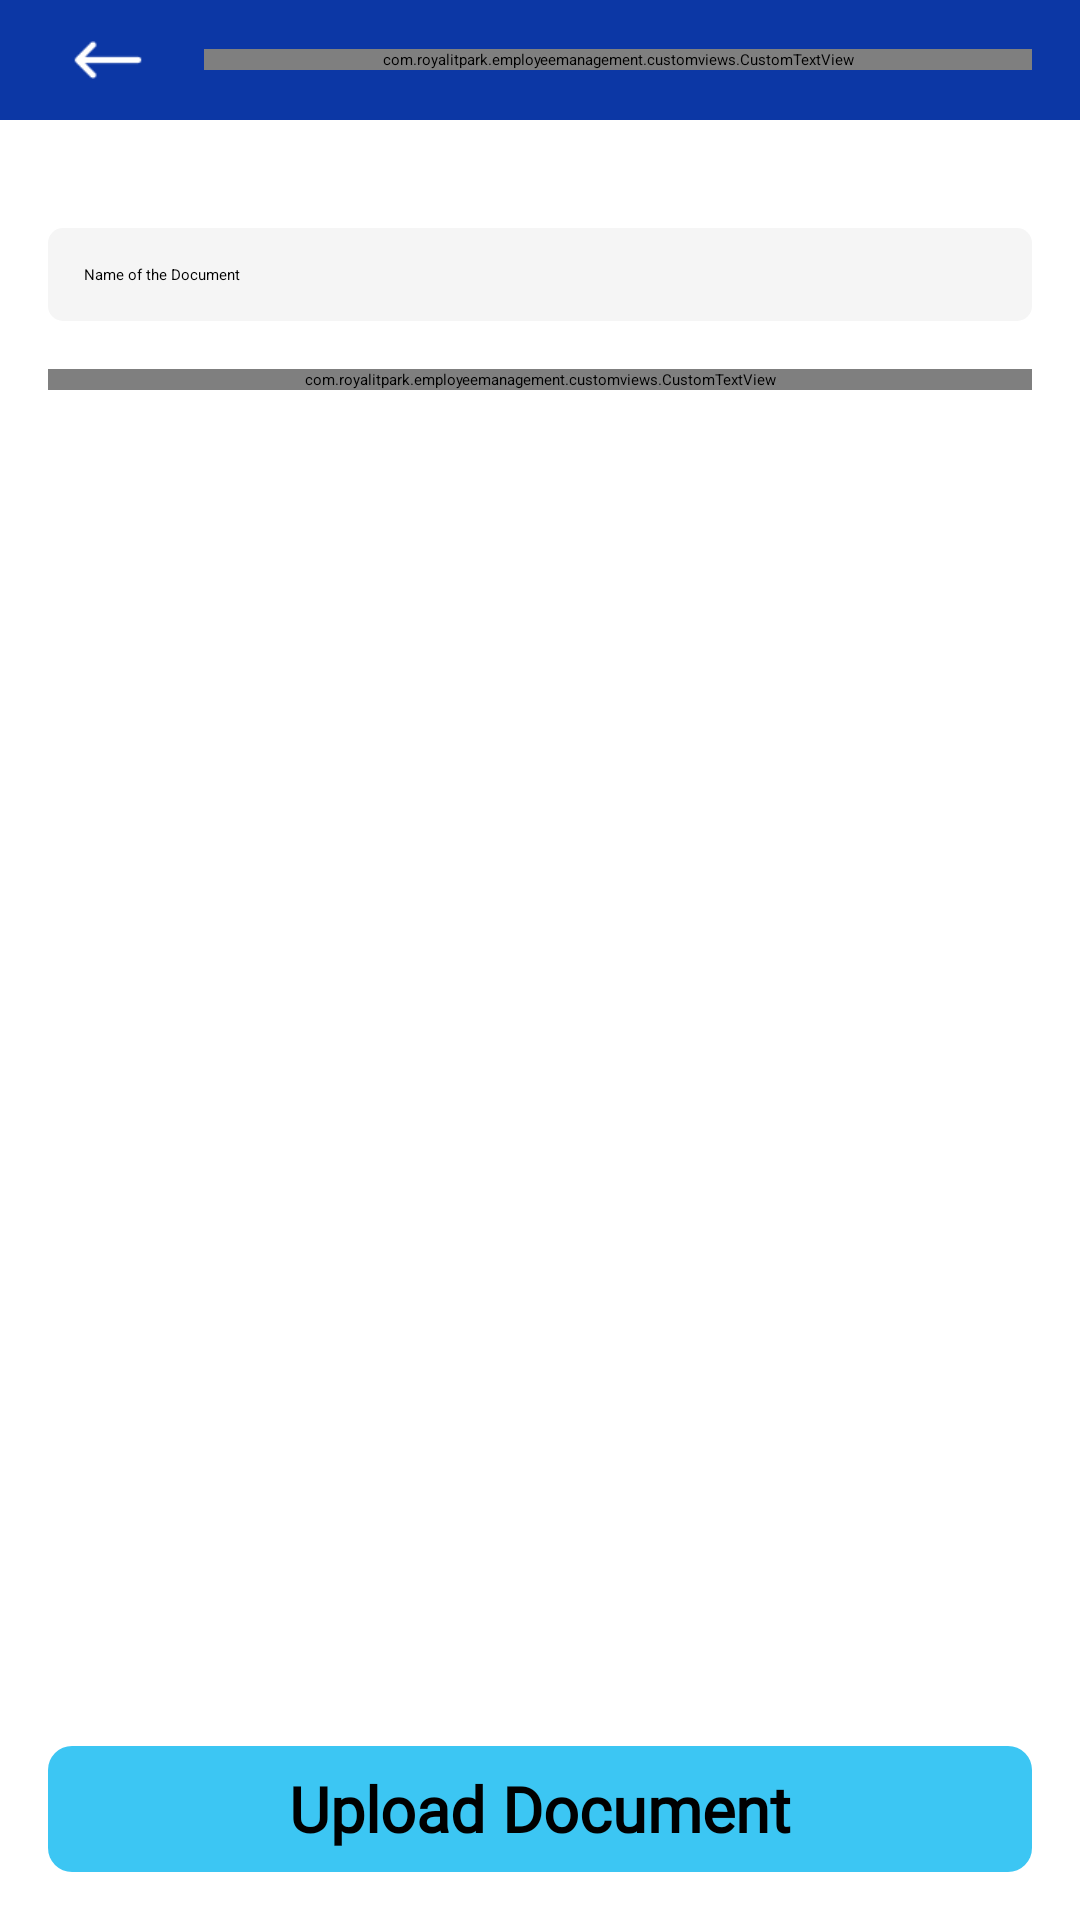

Icons on this 1080*1920 Android screen, each with its box as bbox(x1, y1, x2, y2):
back left: bbox(74, 41, 142, 79)
